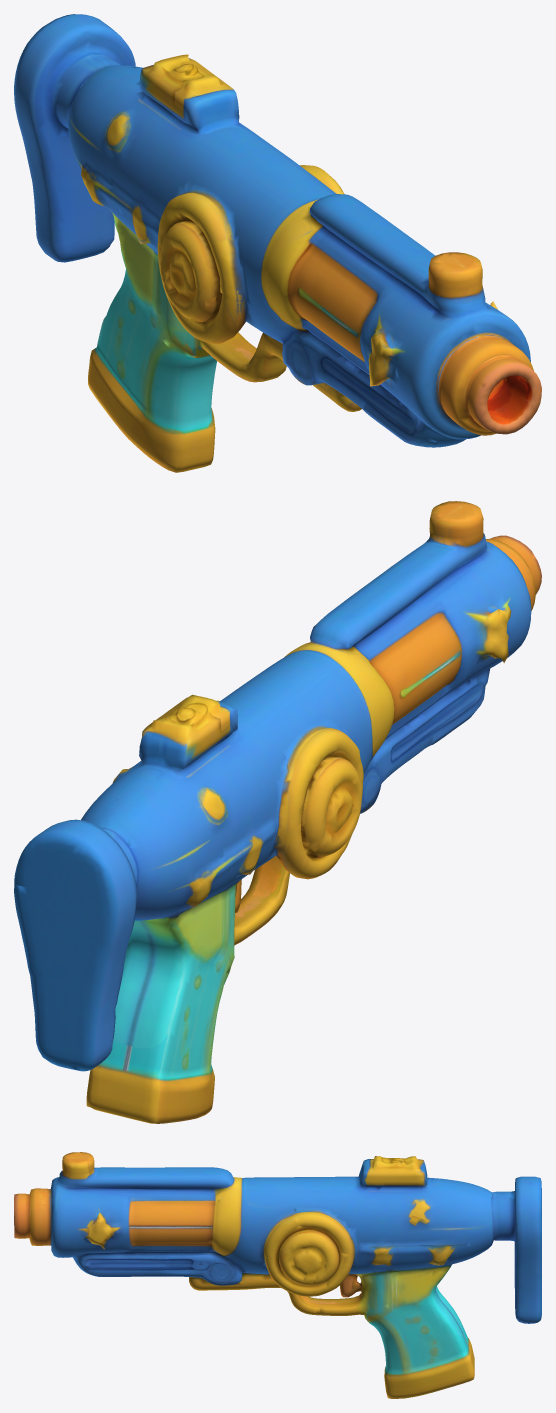
Rendered from Arma_2_model.fbx.
3 renders of one model, top to bottom at view 1: azimuth 30°, elevation 25°; view 2: azimuth 150°, elevation 25°; view 3: azimuth 270°, elevation 25°, orthographic. The views are drawn at different scales.
Parts seen in each view (by area): view 1: input; view 2: input; view 3: input.
Boxes of the visible parts, x1=… form: input: x1=14, y1=14, x2=541, y2=472; input: x1=14, y1=501, x2=541, y2=1123; input: x1=14, y1=1152, x2=541, y2=1398.
Bounding box in the file's own units: 43.23 × 98.8 × 200.
Materials: 1 (1 with a texture image).
